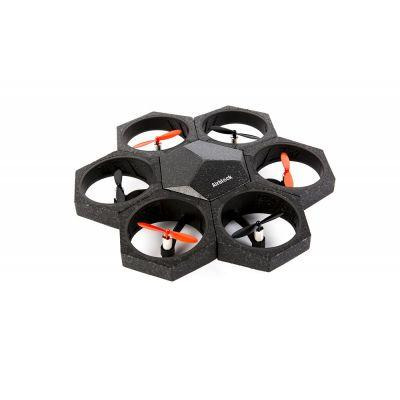drone: (69, 111, 350, 273)
